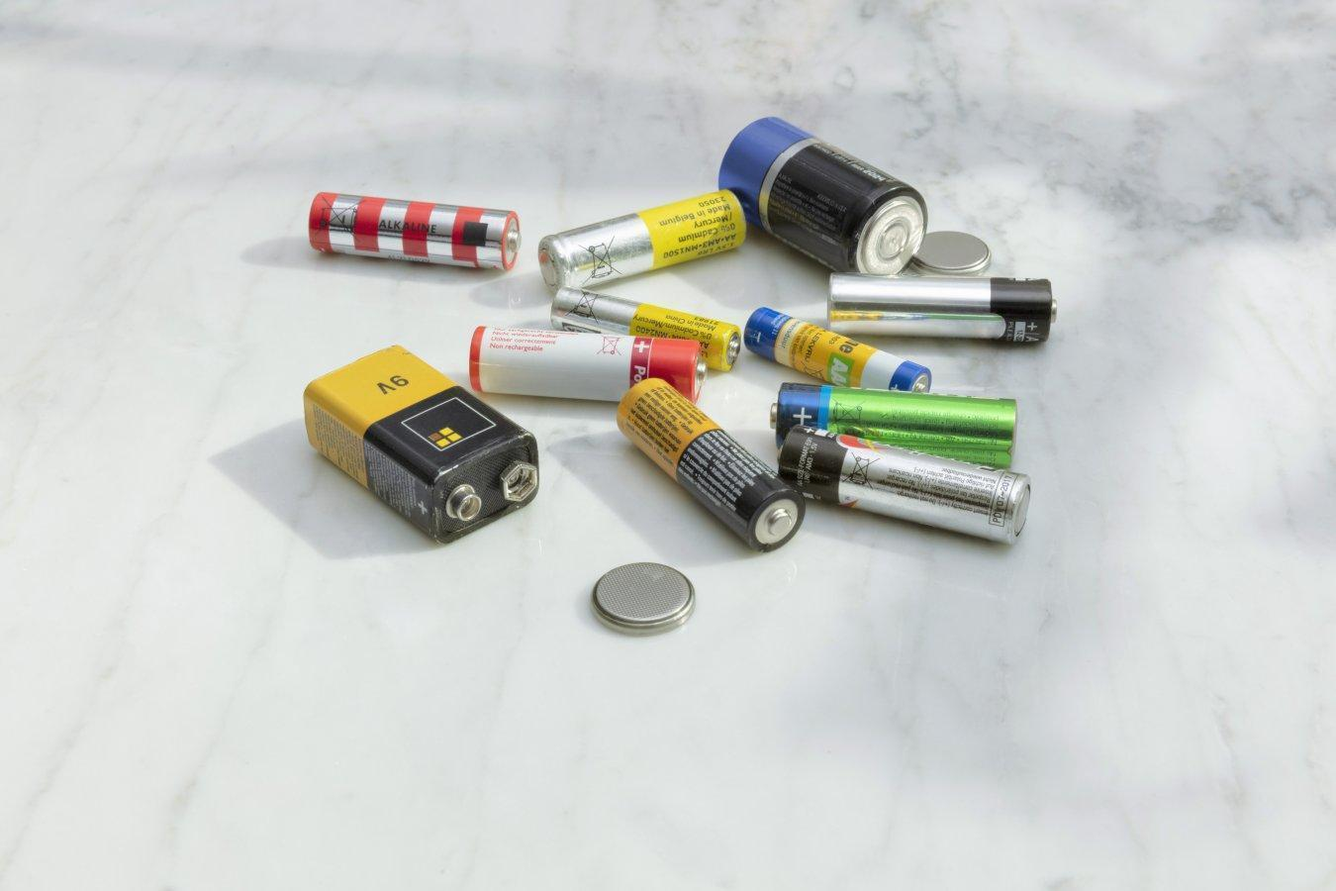9V: (295, 341, 544, 549)
AA: (613, 375, 809, 554), (772, 422, 1036, 554), (533, 186, 750, 301), (767, 381, 1022, 473), (464, 324, 710, 406), (304, 189, 524, 273), (740, 303, 936, 397), (824, 269, 1062, 346), (546, 283, 743, 376)
COIN: (588, 560, 699, 635), (909, 228, 994, 279)
